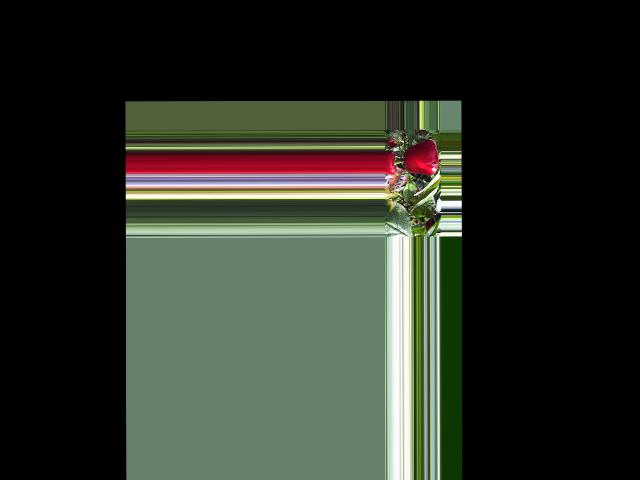bell_pepper: (383, 149, 398, 177)
